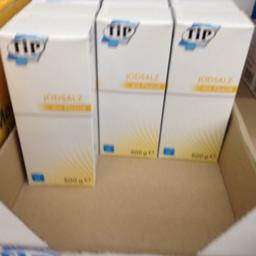spices: (0, 14, 97, 186), (156, 6, 254, 161), (95, 4, 175, 158)
